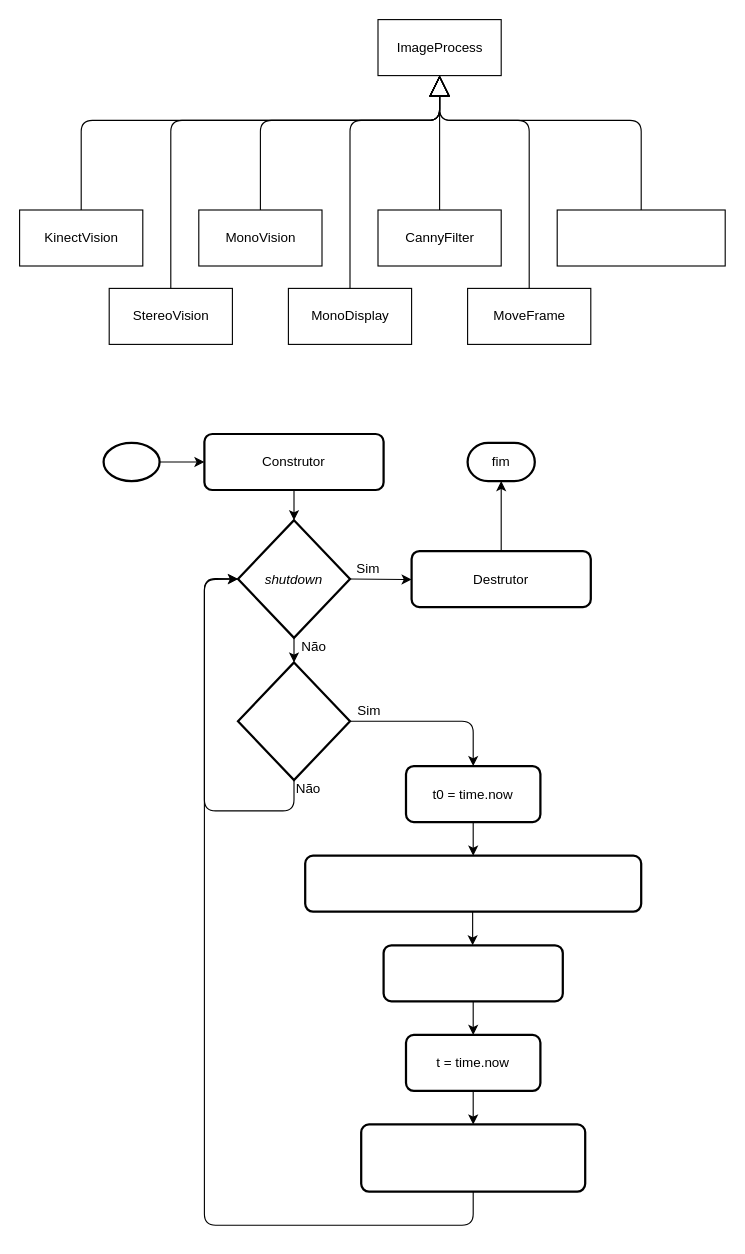
This 745x1254 diagram has some shape labels left out. Each missing label, with the box of its shape:
delta_t = t - t0 delta_t_list .append(delta_t): (360, 1123, 586, 1192)
início: (102, 441, 160, 482)
Novo input_frame?: (236, 661, 351, 781)
output_frame = main_process(input_frame): (304, 854, 642, 912)
publicar output_frame: (382, 944, 563, 1002)
SignatureHistrogram: (556, 209, 725, 266)
